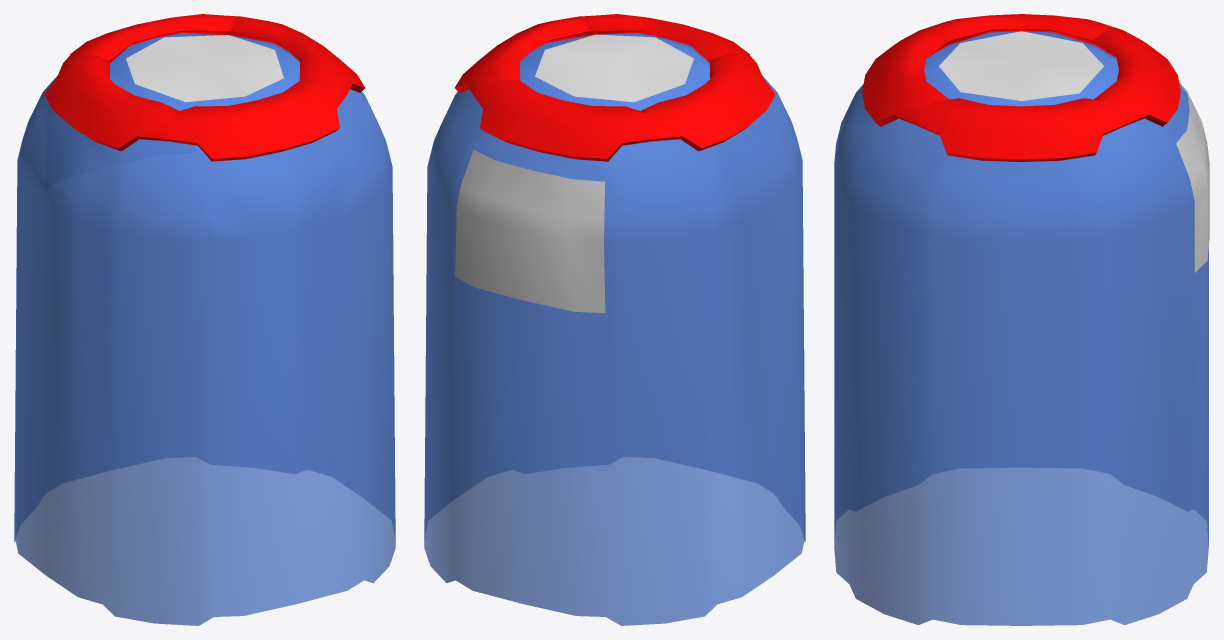
The model's file is obj_characterobject_tapebotpackage_top.fbx.
3 views of the same model, side by side, from view 1: azimuth 30°, elevation 25°; view 2: azimuth 150°, elevation 25°; view 3: azimuth 270°, elevation 25° (orthographic). The views are drawn at different scales.
Parts seen in each view (by area): view 1: obj_characterobject_tapebot_top; view 2: obj_characterobject_tapebot_top; view 3: obj_characterobject_tapebot_top.
Part boxes in pixels (<box>): obj_characterobject_tapebot_top: <box>14,14,395,625</box>; obj_characterobject_tapebot_top: <box>424,14,805,625</box>; obj_characterobject_tapebot_top: <box>834,14,1209,625</box>.
Size of the model in its own units: 5.73 by 8.35 by 5.75.
